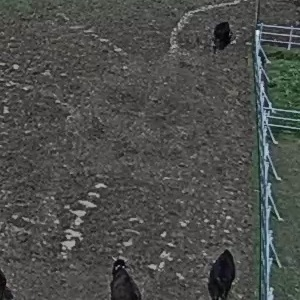cow: (199, 235, 251, 299), (96, 249, 146, 300), (205, 16, 238, 60)
